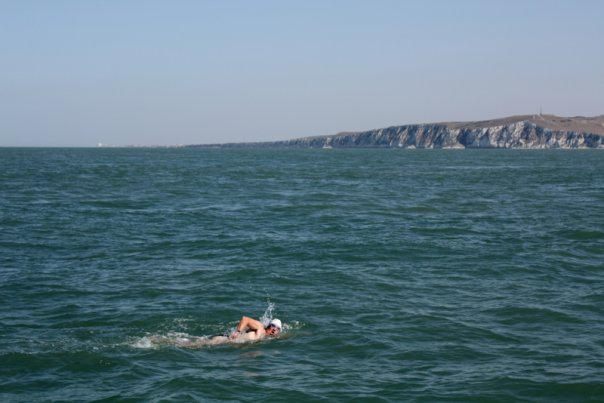swimmer: (222, 314, 284, 346)
